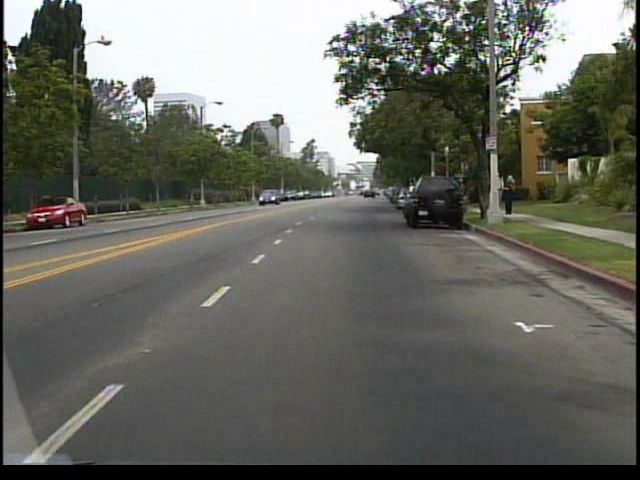person: (501, 172, 519, 217), (489, 166, 505, 213)
